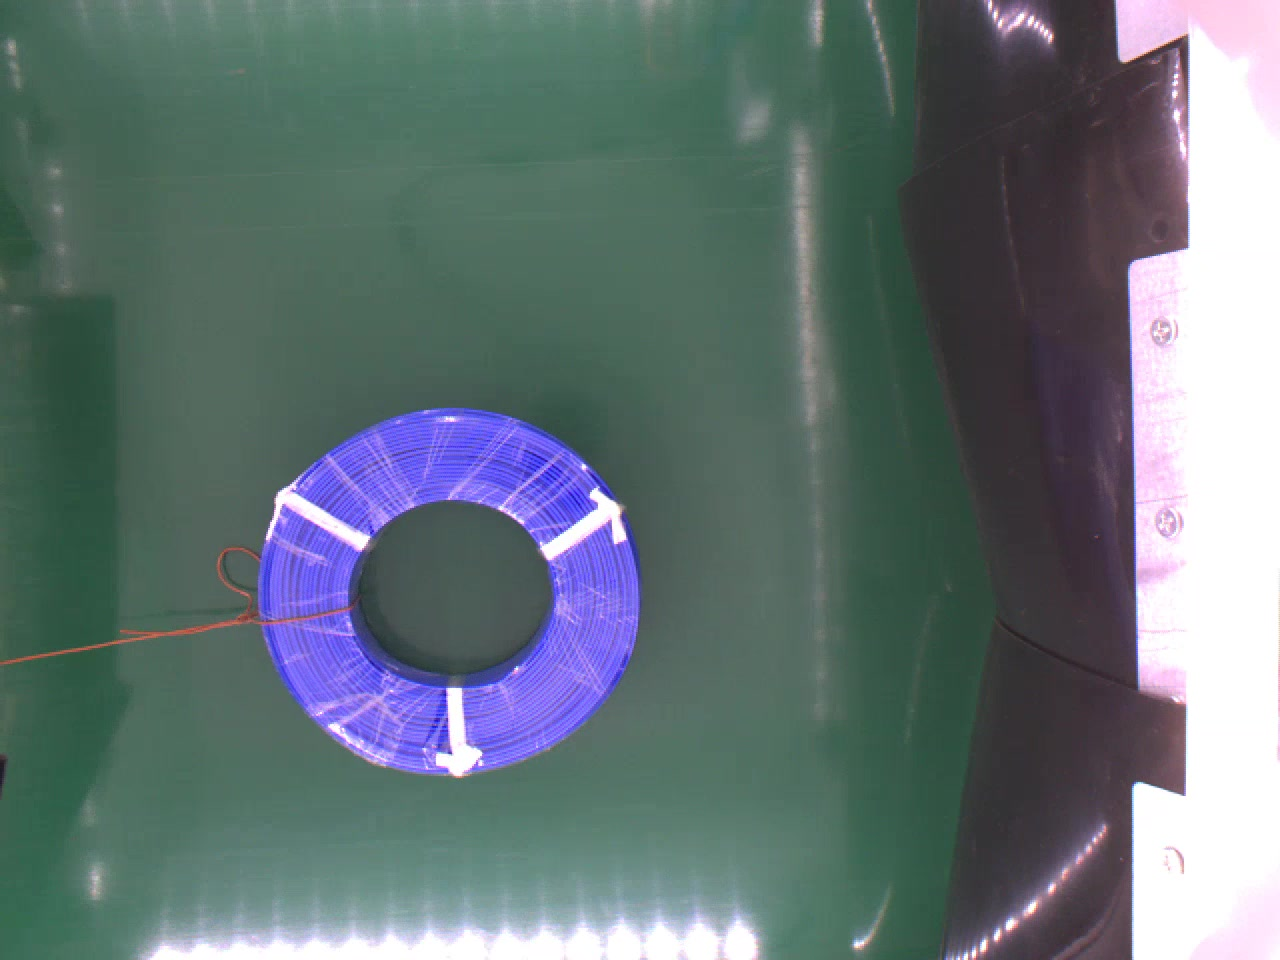blue: (255, 403, 642, 779)
